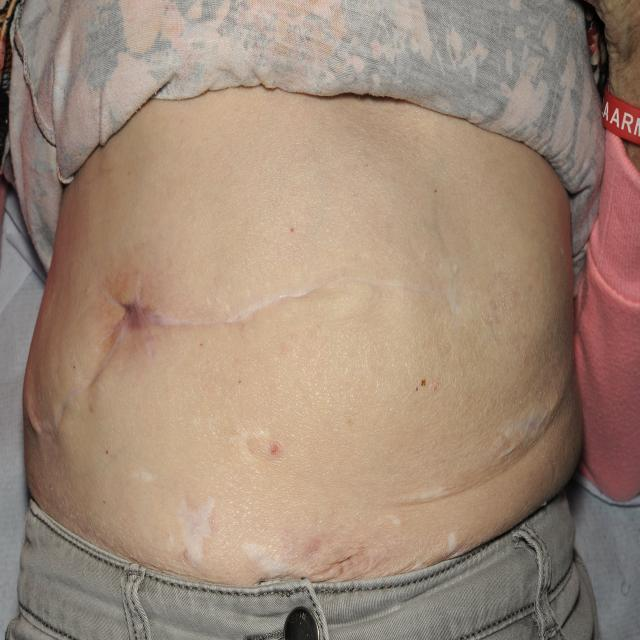wound: (32, 213, 584, 514)
